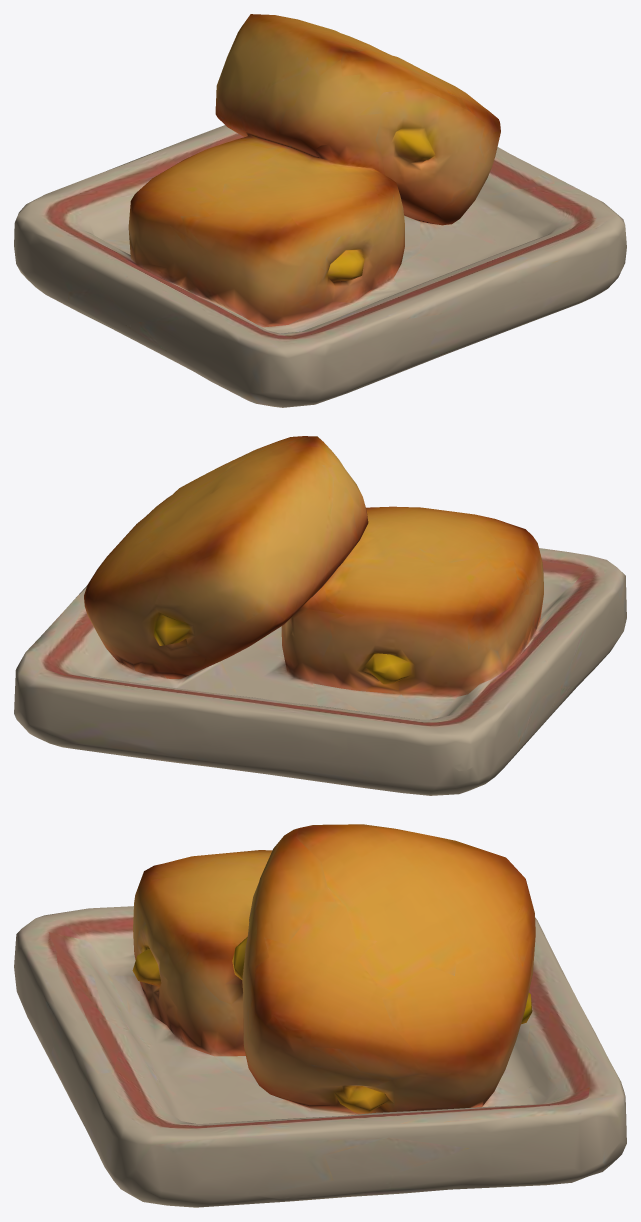
File: TW_사물_s3_food_tier2_pineapplecake.glb
3 views of the same model, one above another, from view 1: azimuth 30°, elevation 25°; view 2: azimuth 150°, elevation 25°; view 3: azimuth 270°, elevation 25° (orthographic). The views are drawn at different scales.
Parts seen in each view (by area): view 1: tripo_node_90165686-4f20-4b01-86be-ca5bb69634f3; view 2: tripo_node_90165686-4f20-4b01-86be-ca5bb69634f3; view 3: tripo_node_90165686-4f20-4b01-86be-ca5bb69634f3.
Boxes of the visible parts, x1,y1,x2,y2 form: tripo_node_90165686-4f20-4b01-86be-ca5bb69634f3: (14,14,626,407); tripo_node_90165686-4f20-4b01-86be-ca5bb69634f3: (14,436,626,795); tripo_node_90165686-4f20-4b01-86be-ca5bb69634f3: (14,824,626,1207).
Bounding box in the file's own units: 0.9984 × 0.4866 × 1.
1 material, 1 textured.
